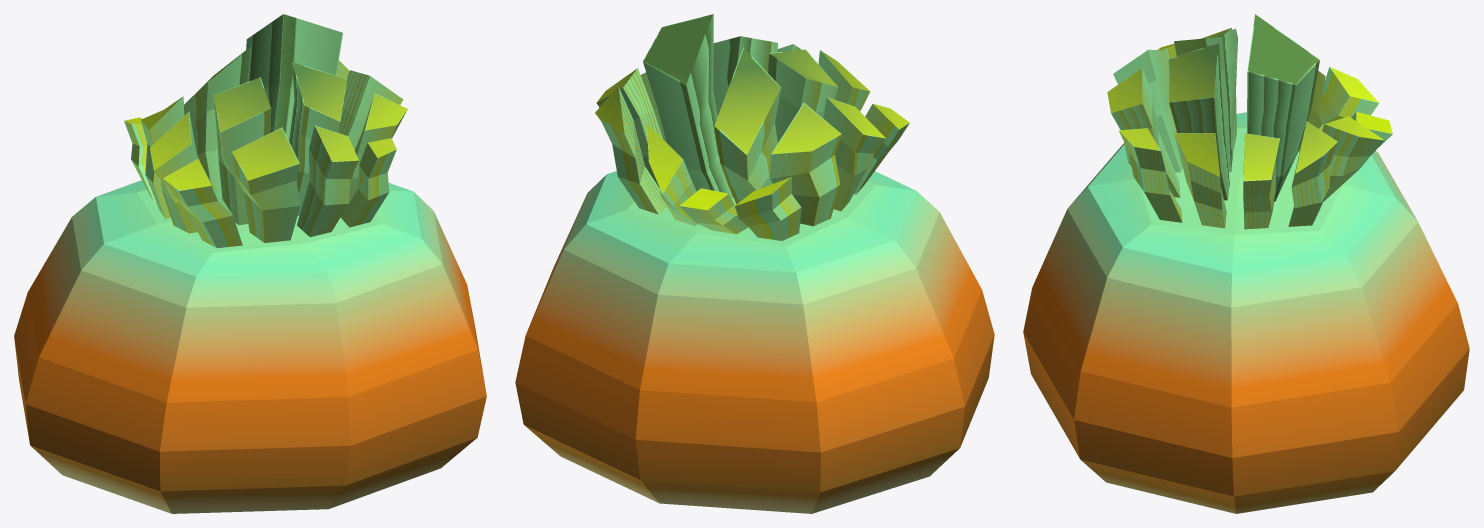
File: 立方体.054.fbx
3 renders of one model, left to right at view 1: azimuth 30°, elevation 25°; view 2: azimuth 150°, elevation 25°; view 3: azimuth 270°, elevation 25°, orthographic.
Parts seen in each view (by area): view 1: 立方体.054; view 2: 立方体.054; view 3: 立方体.054.
Boxes of the visible parts, x1=… form: 立方体.054: x1=14, y1=14, x2=486, y2=513; 立方体.054: x1=515, y1=14, x2=994, y2=513; 立方体.054: x1=1023, y1=14, x2=1469, y2=513.
Bounding box in the file's own units: 11.57 × 11.36 × 10.12.
